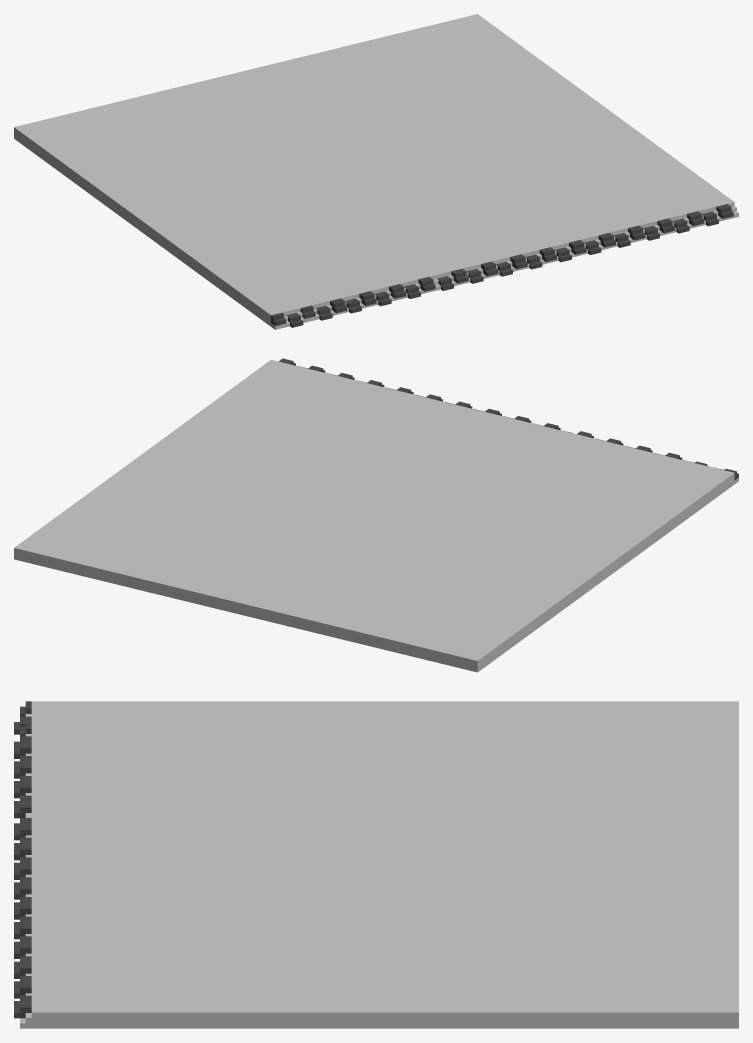
File: hiraya-2.obj
3 renders of one model, top to bottom at view 1: azimuth 30°, elevation 25°; view 2: azimuth 150°, elevation 25°; view 3: azimuth 270°, elevation 25°, orthographic. The views are drawn at different scales.
Visible parts, largest first — view 1: hiraya-2; view 2: hiraya-2; view 3: hiraya-2.
Part boxes in pixels (bbox=[...]): hiraya-2: bbox=[14, 14, 738, 329]; hiraya-2: bbox=[14, 358, 738, 672]; hiraya-2: bbox=[14, 701, 738, 1028].
Bounding box in the file's own units: 126 × 3 × 124.
Materials: 1 (1 with a texture image).
